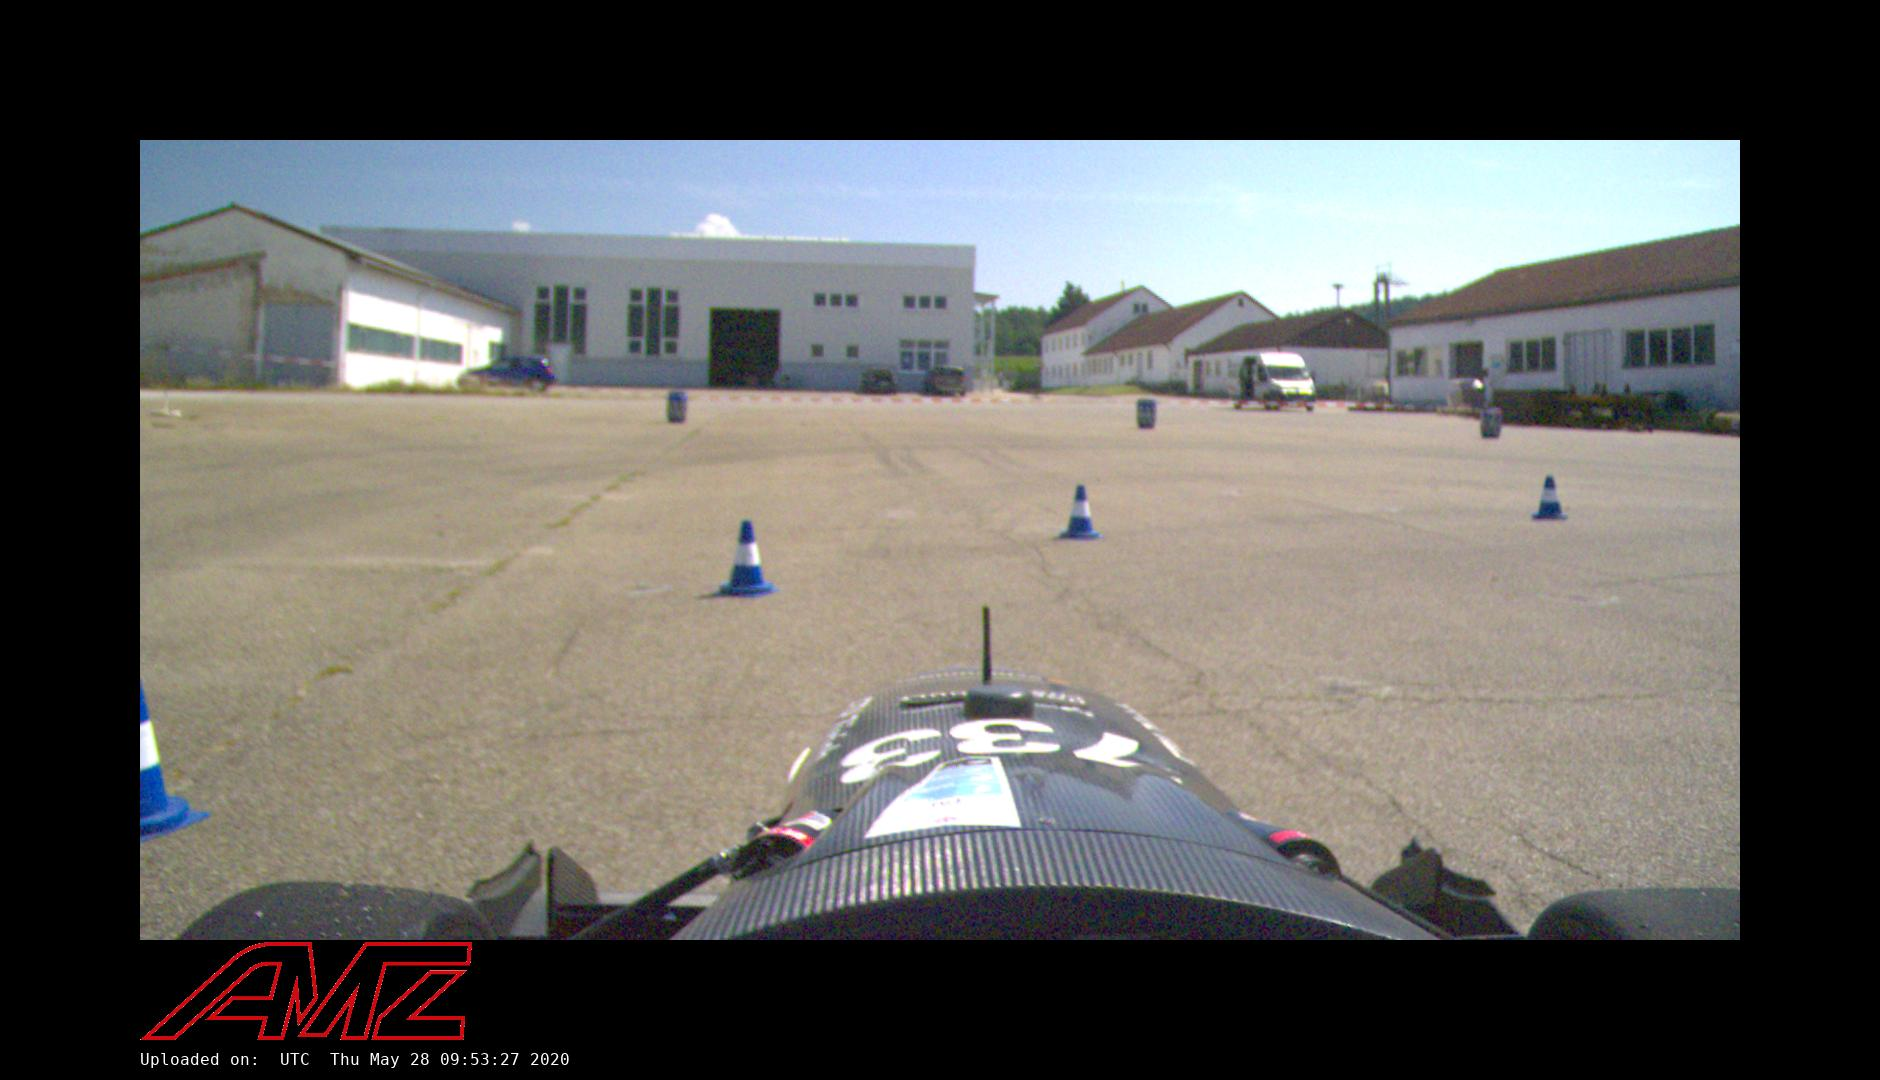blue_cone: (139, 678, 212, 845), (714, 521, 777, 598), (1060, 484, 1101, 541), (1533, 477, 1568, 521)
